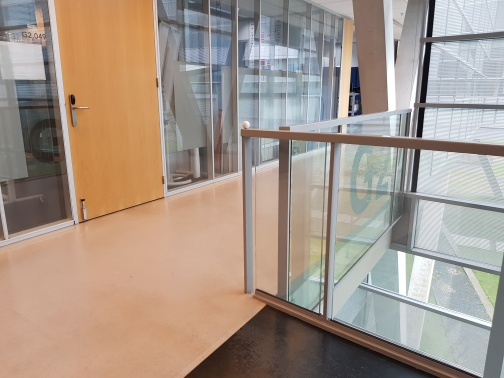egg: (240, 119, 252, 130)
